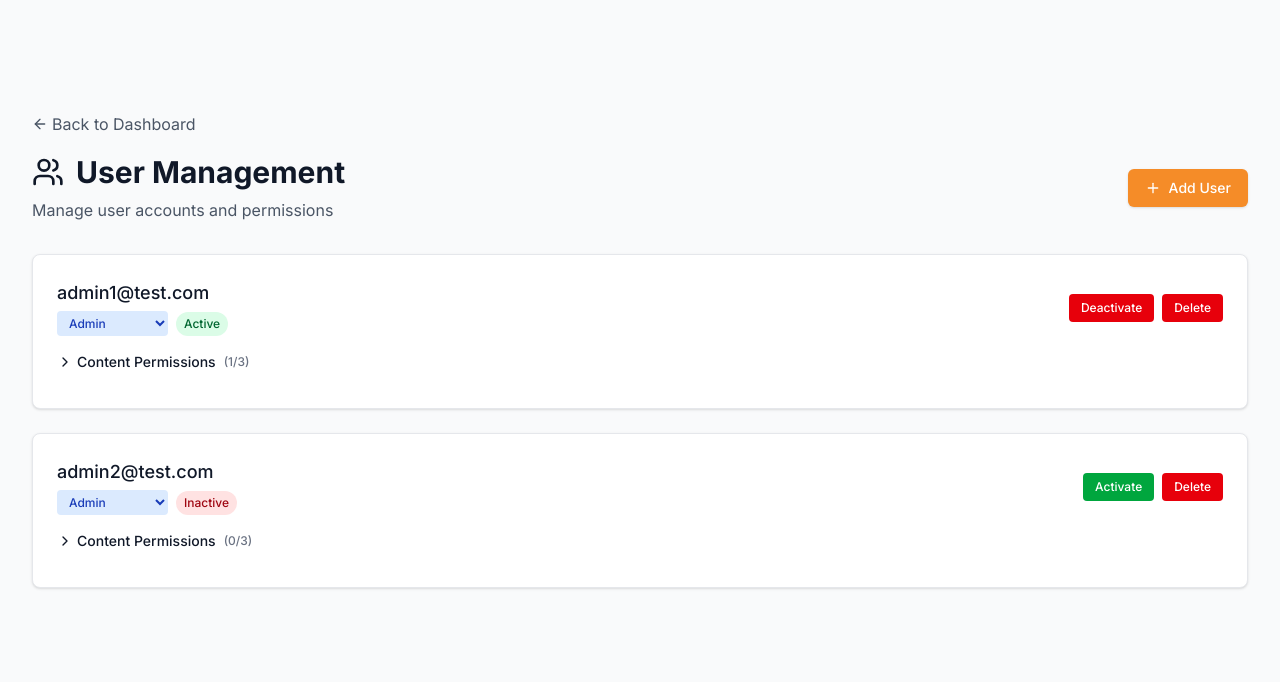
UserManagement › Add user functionality › should show add user form when Add User button is clicked
Click the button "Add User": x=1188, y=188 [1128,169,1248,207]
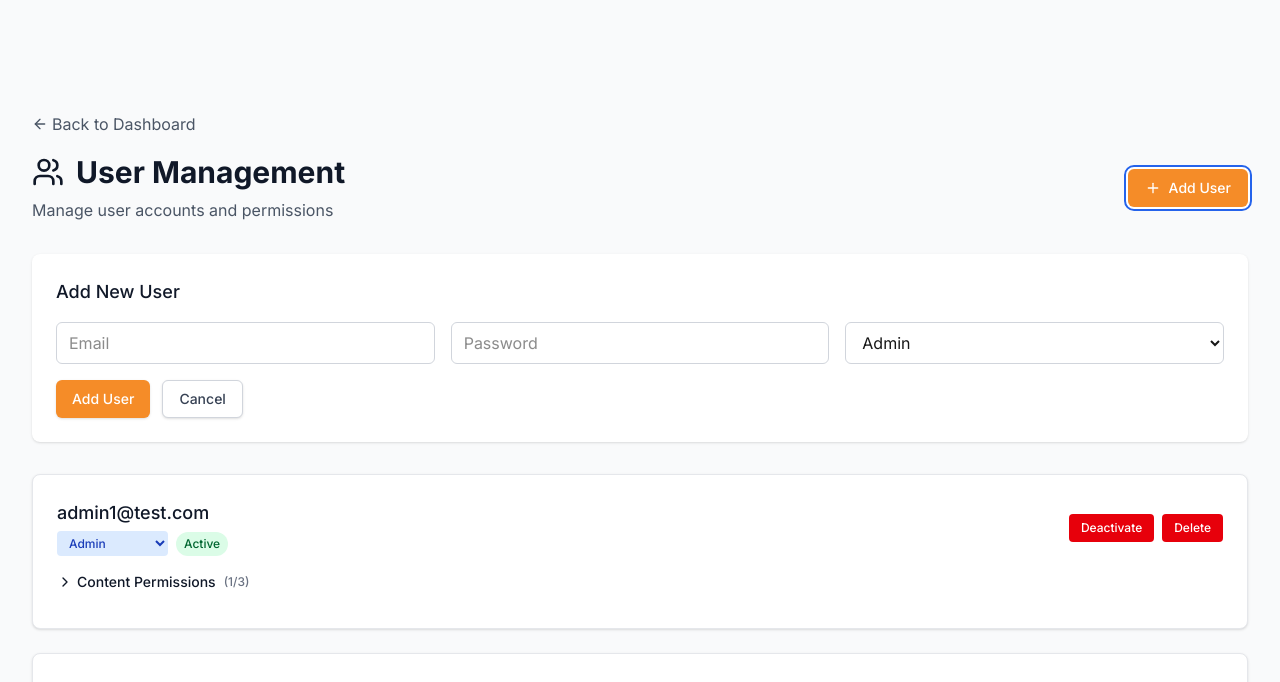
Check: the heading "Add New User" is shown, box [56,281,180,302]
Check: the field with placeholder "Email" is shown, box [56,322,435,364]
Check: the password field with placeholder "Password" is shown, box [451,322,829,364]
